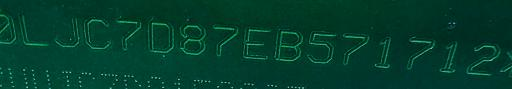letter: (399, 34, 437, 73), (80, 14, 114, 53), (16, 11, 50, 48), (336, 30, 370, 67), (463, 43, 501, 76), (144, 18, 176, 55), (240, 24, 272, 61), (177, 19, 207, 58), (272, 27, 304, 62), (304, 29, 336, 64), (112, 15, 142, 52), (50, 15, 82, 48), (208, 24, 238, 59), (372, 35, 398, 70), (438, 40, 462, 73), (0, 11, 17, 44)
